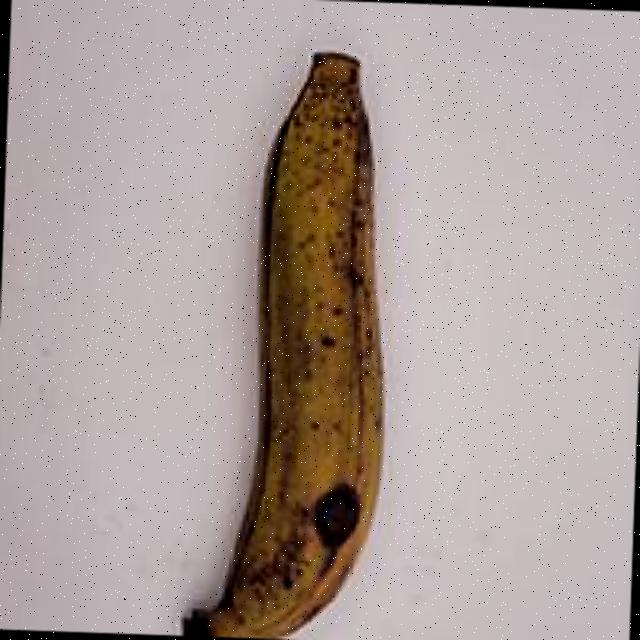Overripe: (133, 6, 429, 640)
